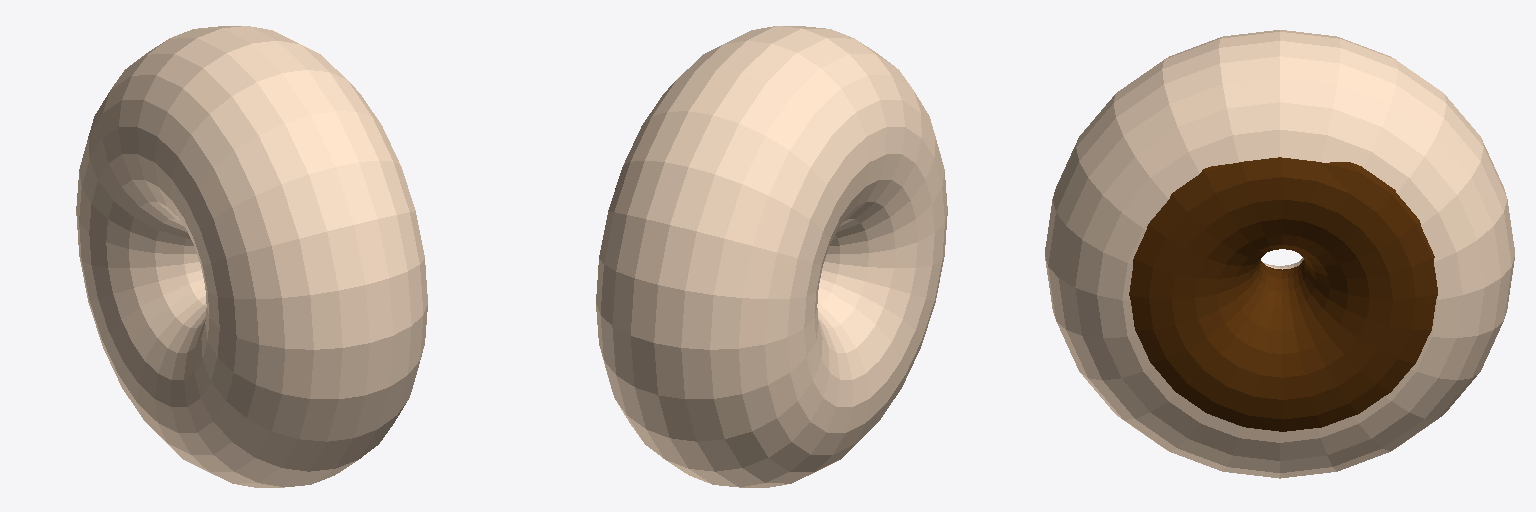
Rendered from donut3.obj.
3 views of the same model, side by side, from view 1: azimuth 30°, elevation 25°; view 2: azimuth 150°, elevation 25°; view 3: azimuth 270°, elevation 25° (orthographic).
Visible parts, largest first — view 1: Mesh1 chocolate_frosted_donut1 Model; view 2: Mesh1 chocolate_frosted_donut1 Model; view 3: Mesh1 chocolate_frosted_donut1 Model.
Part boxes in pixels (left/top/right/bottom): Mesh1 chocolate_frosted_donut1 Model: left=76, top=26, right=427, bottom=487; Mesh1 chocolate_frosted_donut1 Model: left=596, top=26, right=947, bottom=487; Mesh1 chocolate_frosted_donut1 Model: left=1045, top=30, right=1514, bottom=478.
Size of the model in its own units: 1.96 by 3.93 by 3.93.